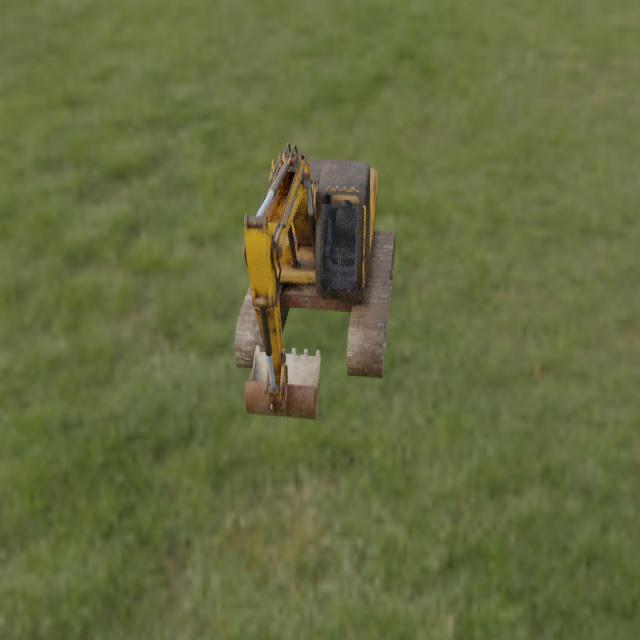excavator: (234, 141, 395, 420)
